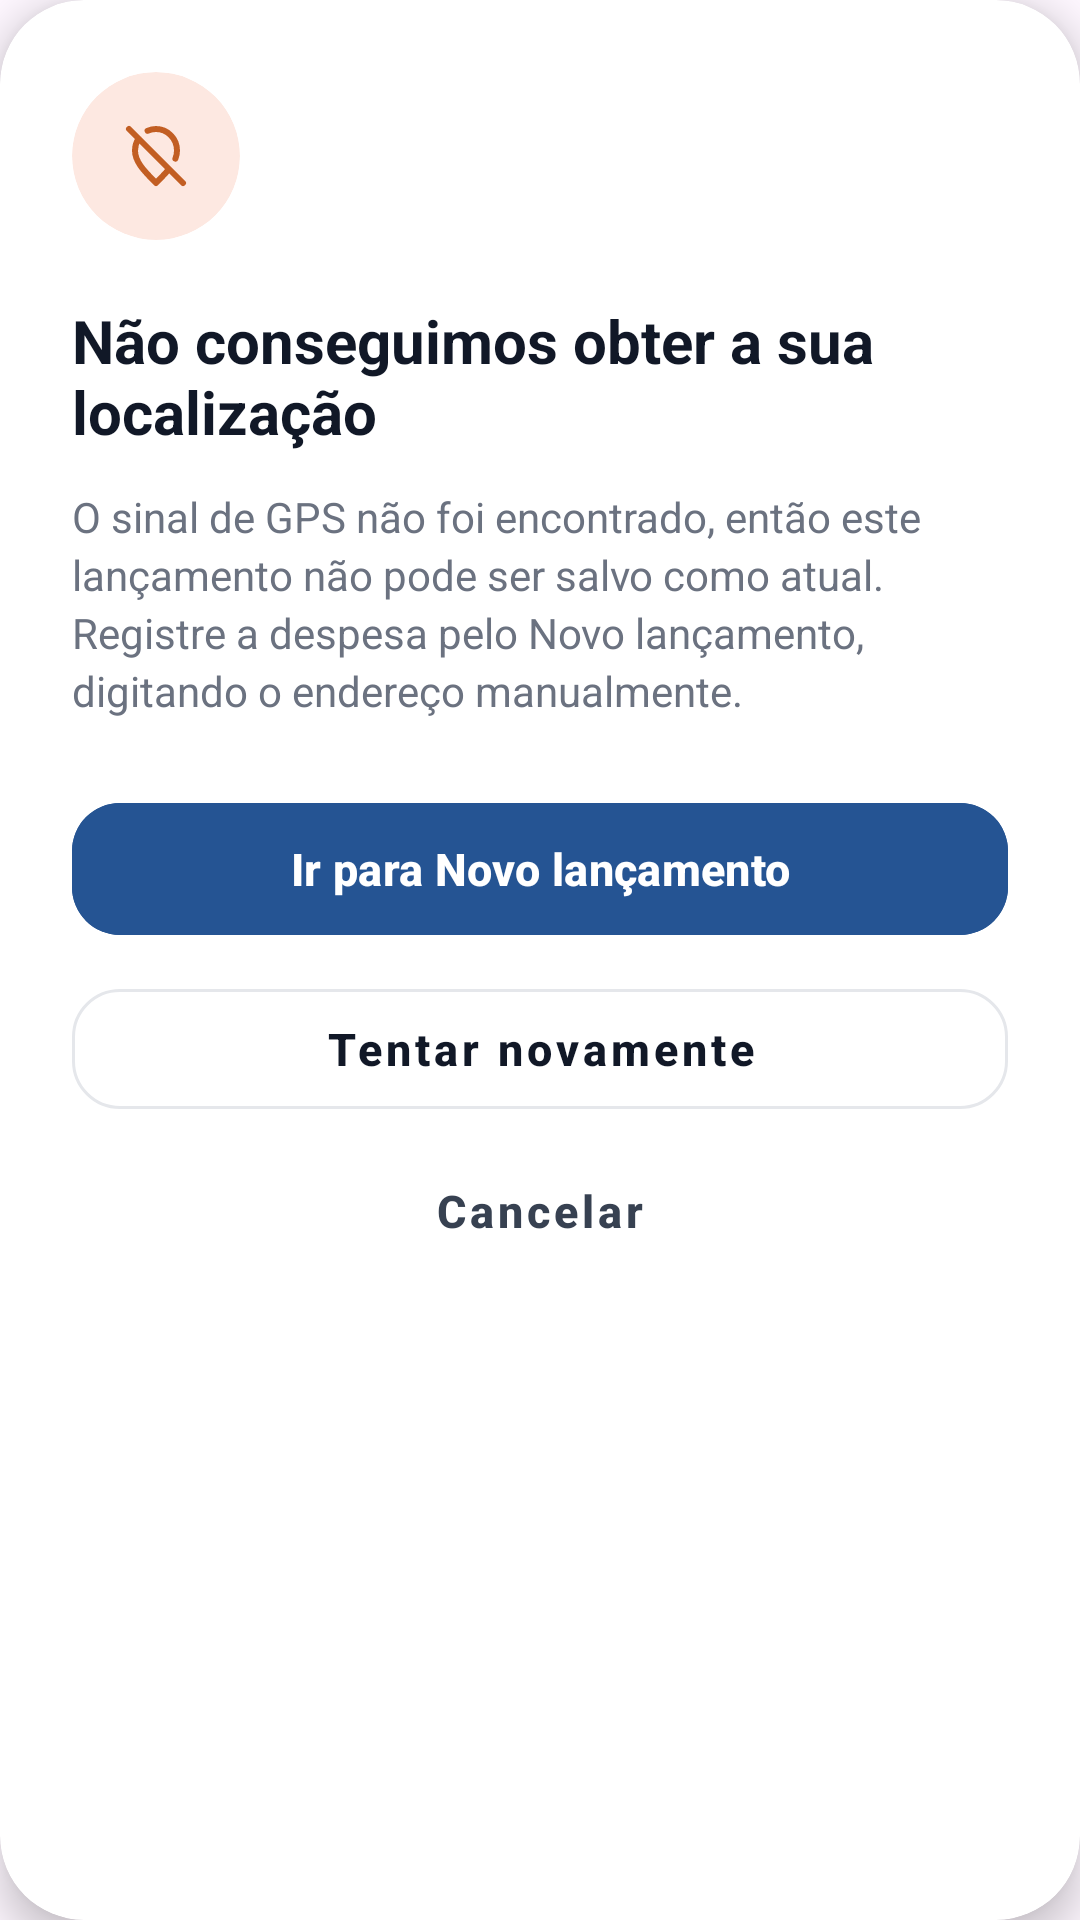

Locate icon controls on the screen. Image size 1080w x 1920h, boxes as (x1, y1, x2, y2).
location slash: (126, 126, 186, 186)
